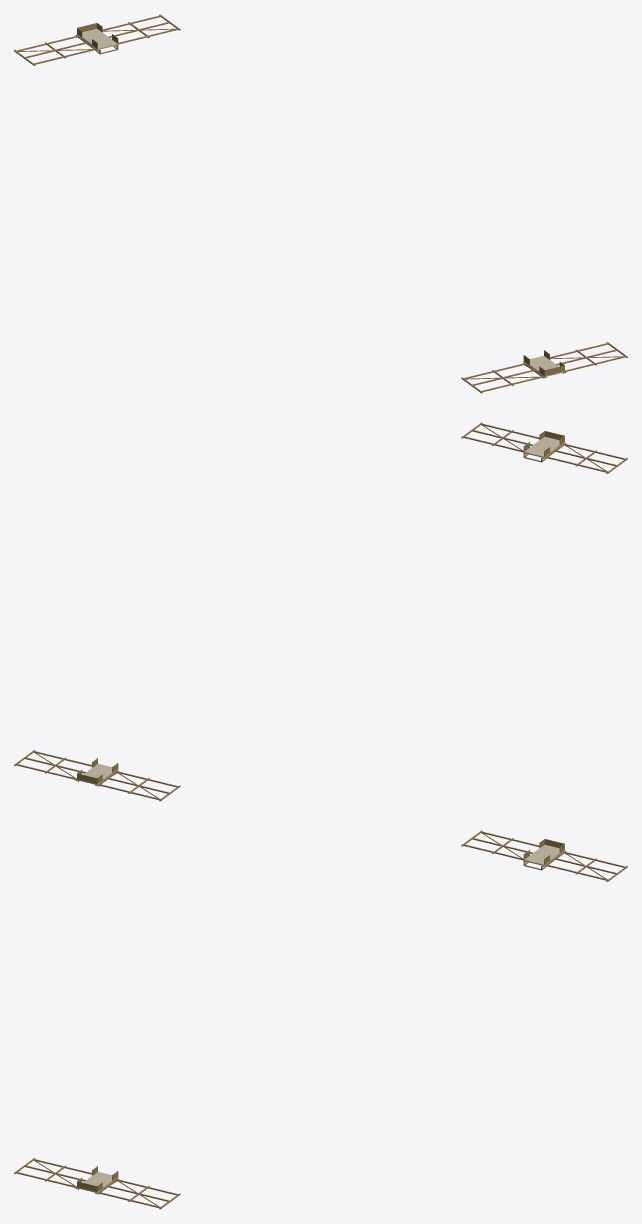
Rendered from StarAtlasSpecialtyTenthReceiving.glb.
The picture shows the model from 3 angles, top to bottom: view 1: azimuth 30°, elevation 25°; view 2: azimuth 150°, elevation 25°; view 3: azimuth 330°, elevation 25°; orthographic projection.
Size of the model in its own units: 29.9 by 2.1 by 165.
2 materials, 2 textured.
